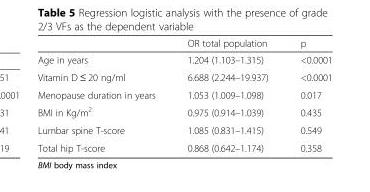table: (36, 37, 331, 153)
table column: (36, 37, 170, 153), (170, 37, 283, 153), (283, 37, 331, 153)
table column header: (36, 37, 331, 51)
table row: (36, 102, 331, 121), (36, 67, 331, 85), (36, 85, 331, 102), (36, 121, 331, 138), (36, 51, 331, 67), (36, 138, 331, 153), (36, 37, 331, 51)
